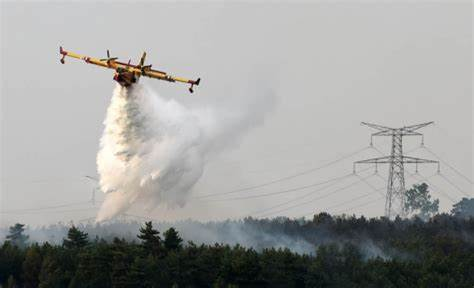Aeronef_de_service: (51, 36, 206, 101)
